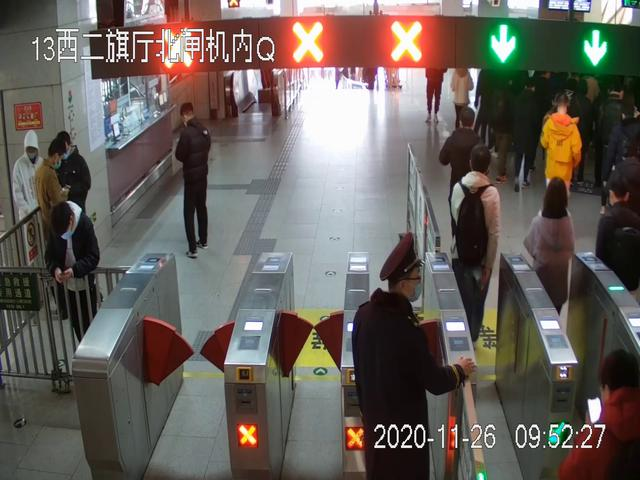person: (354, 232, 474, 480), (449, 145, 499, 359), (522, 176, 576, 351), (46, 200, 100, 368), (539, 93, 581, 235), (176, 102, 213, 259), (12, 127, 47, 272), (451, 67, 474, 135)
